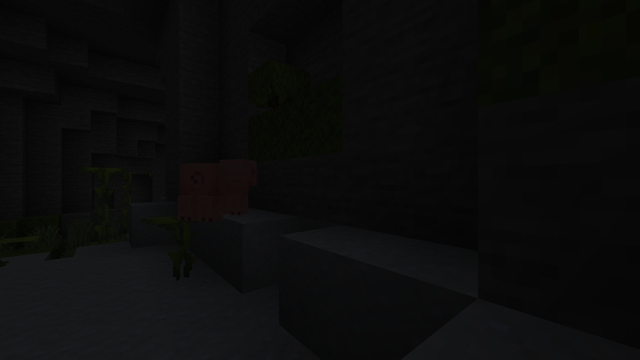cochons: (183, 160, 254, 221)
